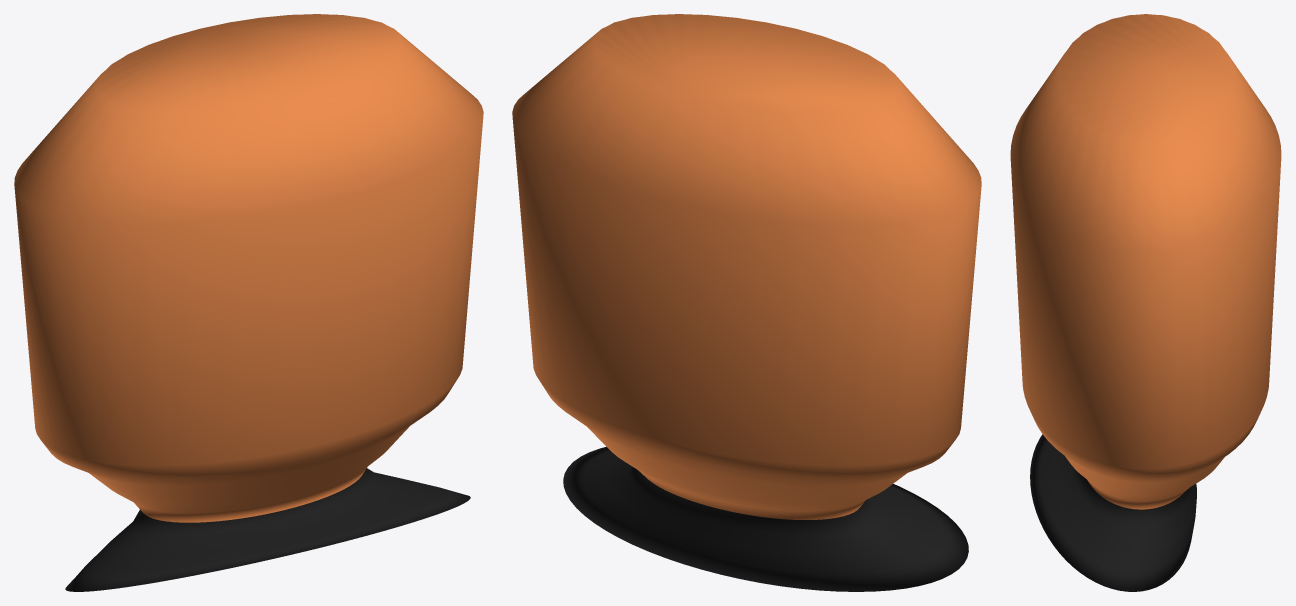
The model's file is Feet.fbx.
3 renders of one model, left to right at view 1: azimuth 30°, elevation 25°; view 2: azimuth 150°, elevation 25°; view 3: azimuth 270°, elevation 25°, orthographic. The views are drawn at different scales.
Visible parts, largest first — view 1: Leg; view 2: Leg; view 3: Leg.
Part boxes in pixels (x1=…): Leg: x1=14, y1=14, x2=483, y2=591; Leg: x1=512, y1=14, x2=981, y2=591; Leg: x1=1010, y1=14, x2=1281, y2=591.
Bounding box in the file's own units: 180 × 190 × 104.
